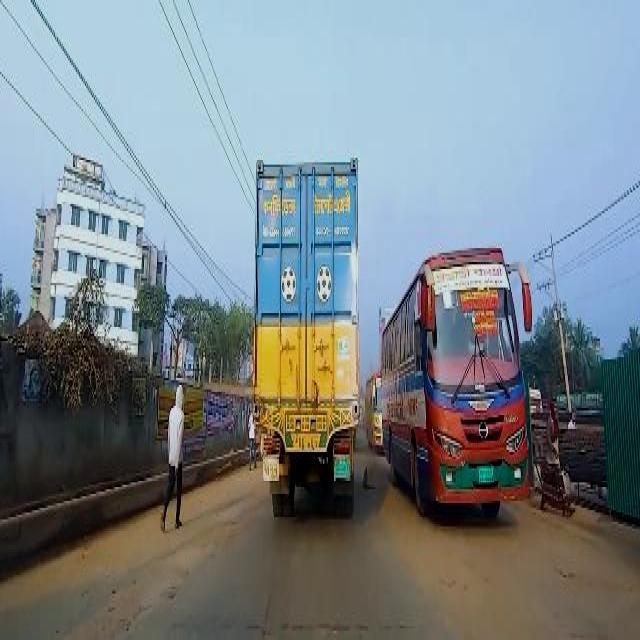BUS: (374, 246, 540, 515)
